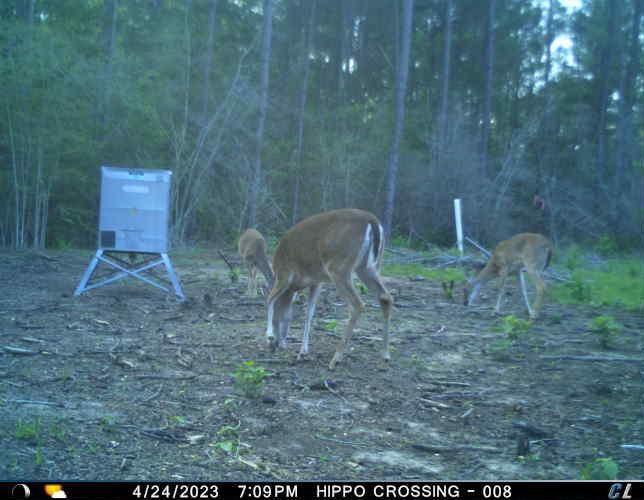Deer: (262, 204, 396, 375), (459, 231, 558, 323), (238, 226, 278, 296)
